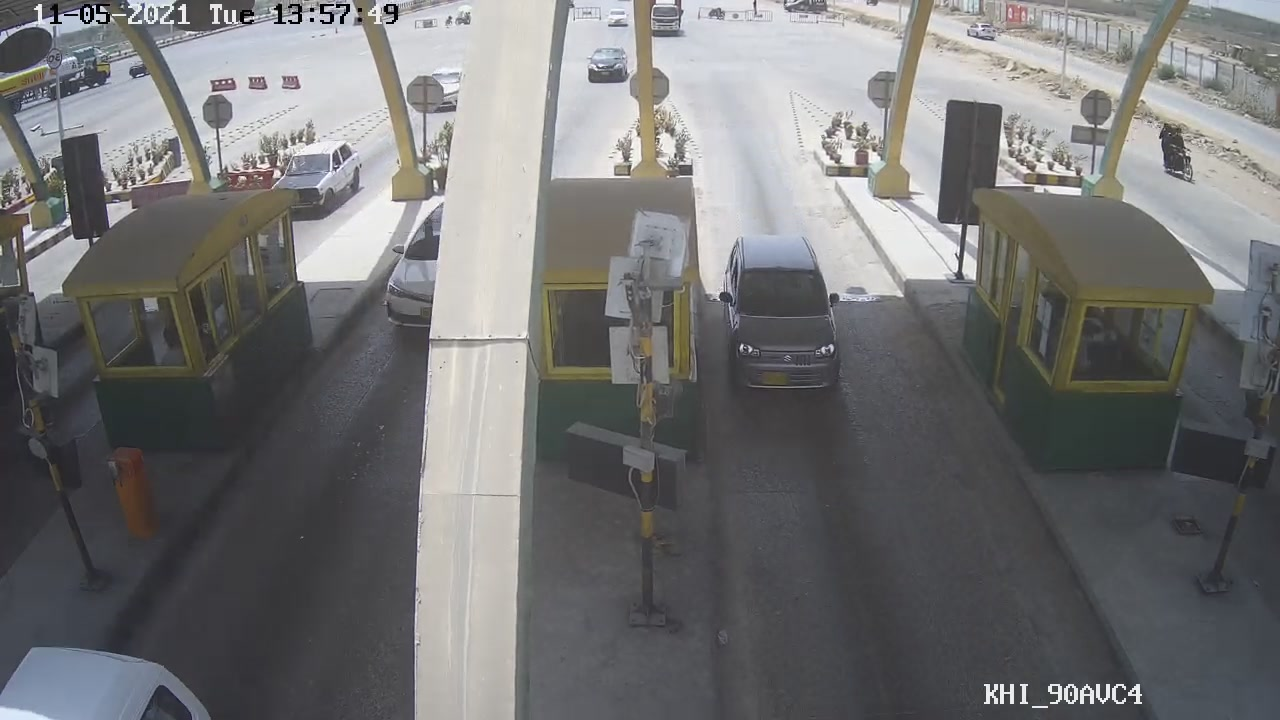F1: (712, 226, 848, 403)
